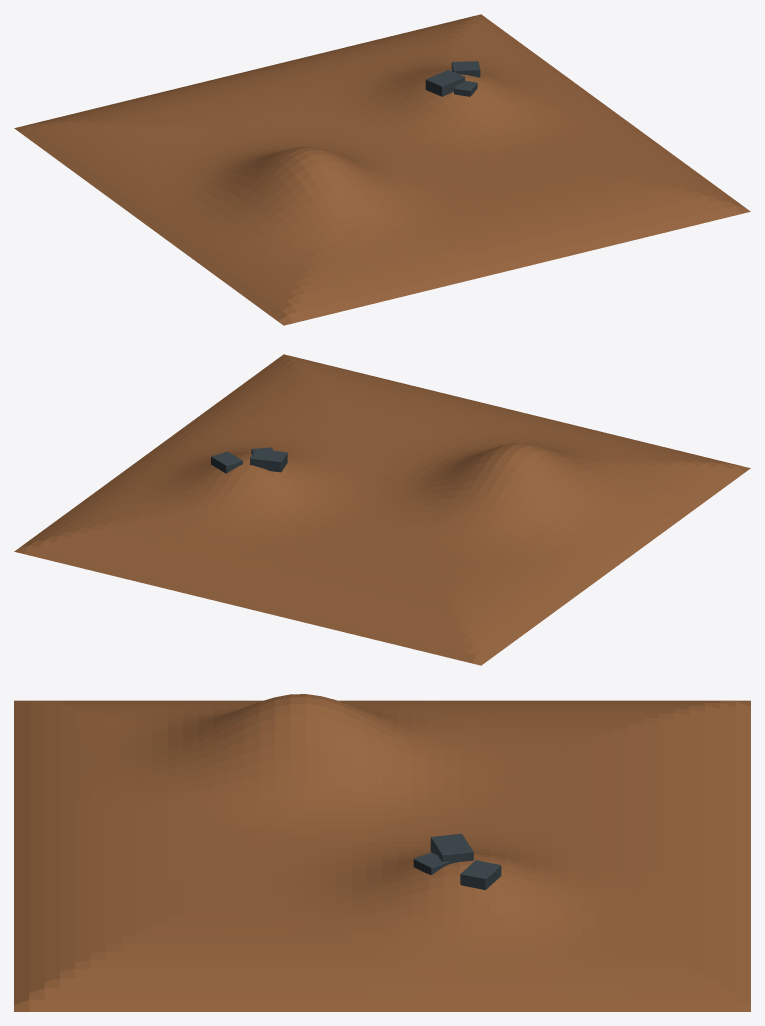
File: terrain-original.glb
3 views of the same model, one above another, from view 1: azimuth 30°, elevation 25°; view 2: azimuth 150°, elevation 25°; view 3: azimuth 270°, elevation 25° (orthographic). The views are drawn at different scales.
Parts seen in each view (by area): view 1: TerrainSurface, OreRockA; view 2: TerrainSurface, OreRockA; view 3: TerrainSurface, OreRockA, OreRockB.
Boxes of the visible parts, x1,y1,x2,y2 form: TerrainSurface: [14, 14, 750, 325]; OreRockA: [425, 70, 464, 96]; TerrainSurface: [14, 354, 750, 665]; OreRockA: [250, 448, 287, 472]; TerrainSurface: [14, 694, 750, 1011]; OreRockA: [430, 833, 473, 863]; OreRockB: [460, 860, 501, 890].
Bounding box in the file's own units: 9 × 1.18 × 9.
